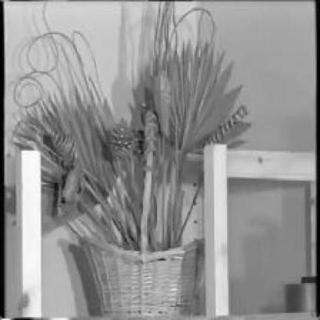other: (14, 151, 52, 294)
